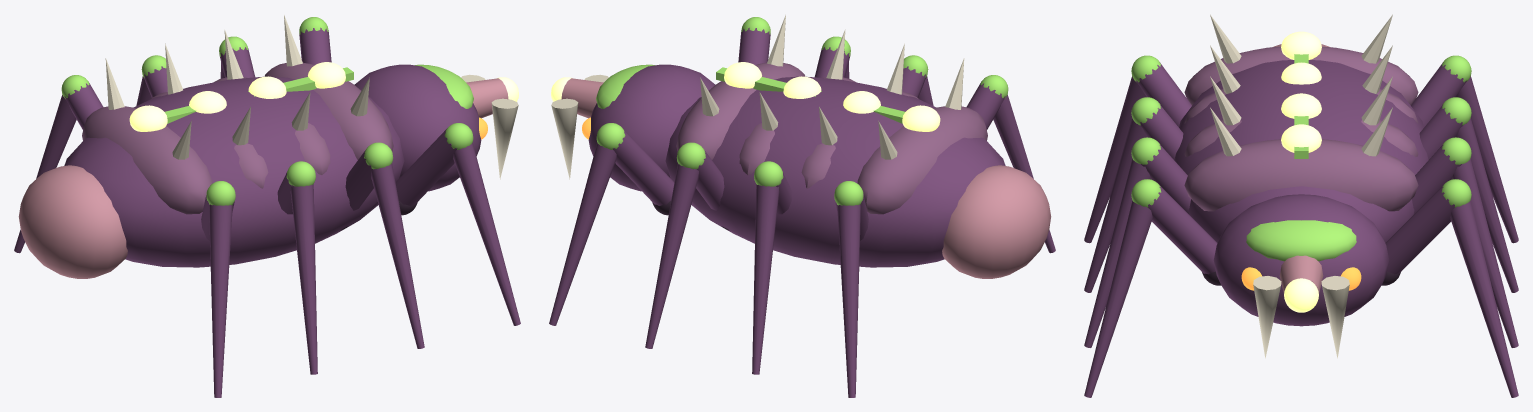
File: ins_heavy.glb
3 views of the same model, side by side, from view 1: azimuth 30°, elevation 25°; view 2: azimuth 150°, elevation 25°; view 3: azimuth 270°, elevation 25° (orthographic). The views are drawn at different scales.
Visible parts, largest first — view 1: ins_heavy, turret_m, limb_r0_m, limb_r1_m, limb_r2_m, limb_r3_m, limb_l3_m, limb_l0_m, limb_l2_m, limb_l1_m; view 2: ins_heavy, turret_m, limb_l0_m, limb_l1_m, limb_l2_m, limb_l3_m, limb_r3_m, limb_r0_m, limb_r2_m, limb_r1_m; view 3: ins_heavy, turret_m, limb_l0_m, limb_r0_m, limb_l1_m, limb_r1_m, limb_l3_m, limb_r3_m, limb_l2_m, limb_r2_m.
Part boxes in pixels (x1,y1,x2,y2): ins_heavy: [18, 15, 404, 278]; turret_m: [354, 64, 518, 191]; limb_r0_m: [395, 123, 520, 325]; limb_r1_m: [340, 142, 424, 348]; limb_r2_m: [277, 161, 317, 374]; limb_r3_m: [201, 181, 235, 397]; limb_l3_m: [14, 75, 103, 253]; limb_l0_m: [299, 17, 331, 64]; limb_l2_m: [136, 55, 167, 105]; limb_l1_m: [219, 36, 255, 78]; ins_heavy: [665, 15, 1051, 278]; turret_m: [551, 64, 715, 191]; limb_l0_m: [549, 123, 674, 325]; limb_l1_m: [645, 142, 729, 348]; limb_l2_m: [752, 161, 792, 374]; limb_l3_m: [834, 181, 868, 397]; limb_r3_m: [966, 75, 1055, 253]; limb_r0_m: [738, 17, 770, 64]; limb_r2_m: [902, 55, 933, 105]; limb_r1_m: [814, 36, 850, 78]; ins_heavy: [1174, 14, 1428, 242]; turret_m: [1213, 194, 1389, 358]; limb_l0_m: [1381, 179, 1518, 397]; limb_r0_m: [1084, 179, 1221, 397]; limb_l1_m: [1412, 137, 1518, 347]; limb_r1_m: [1084, 137, 1190, 347]; limb_l3_m: [1411, 55, 1518, 243]; limb_r3_m: [1084, 55, 1191, 243]; limb_l2_m: [1419, 97, 1518, 292]; limb_r2_m: [1084, 97, 1183, 292].
Size of the model in its own units: 2.05 by 0.9203 by 1.49.
